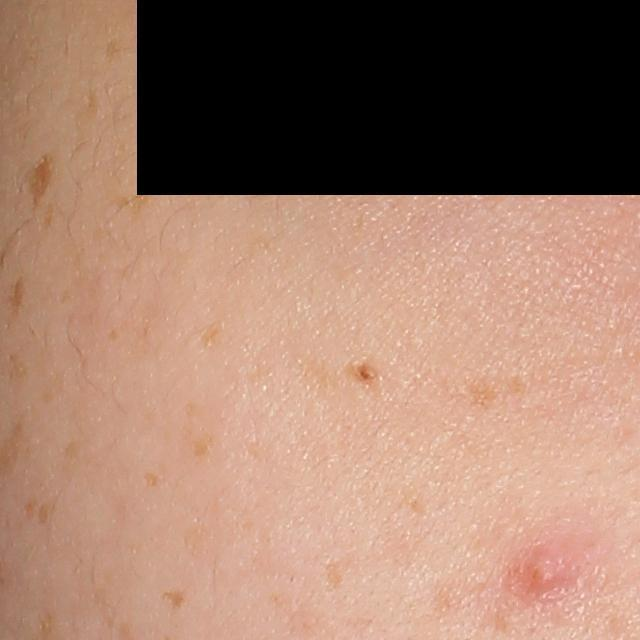melasma: (455, 369, 529, 410), (107, 180, 168, 222), (17, 153, 56, 206), (4, 273, 30, 319), (197, 319, 229, 350), (158, 588, 192, 615), (101, 34, 123, 63), (140, 471, 164, 490), (35, 500, 52, 525)
papule: (508, 540, 574, 595)
